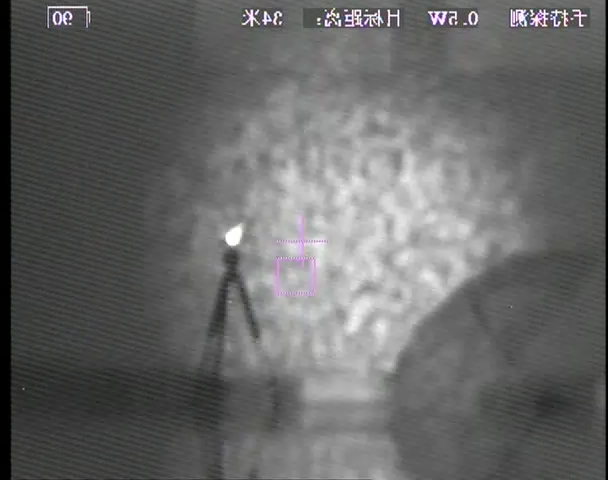my: (222, 223, 245, 247)
